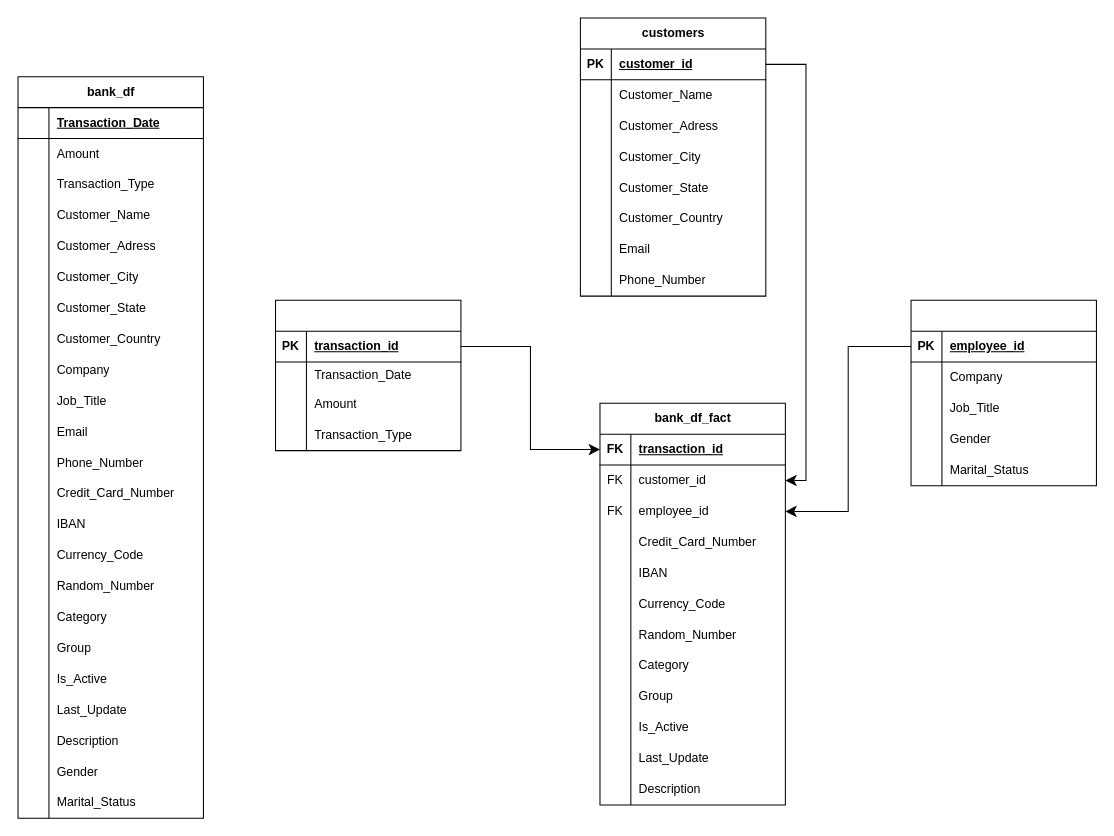
Some shapes in this 1114 by 836 pixel diagram are drawn without their labels. The box of each missing label's shape, as (x1, y1, x2, y2) in pixels:
employees: (910, 299, 1096, 486)
transactions: (274, 299, 461, 451)
